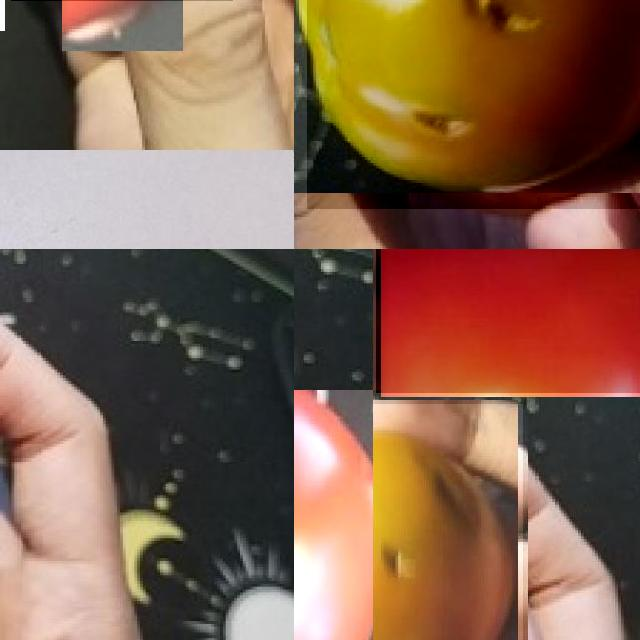Fresh Tomato: (376, 249, 640, 393)
Rotten Tomato: (306, 0, 640, 209), (373, 404, 523, 640)
